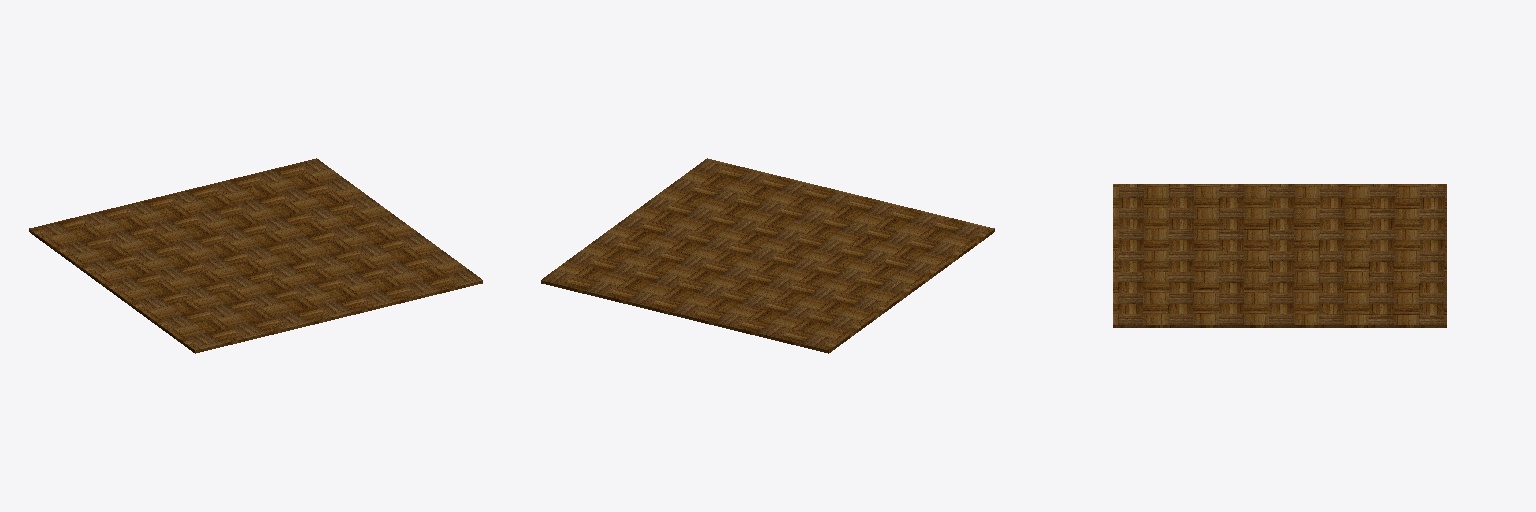
3 views of the same model, side by side, from view 1: azimuth 30°, elevation 25°; view 2: azimuth 150°, elevation 25°; view 3: azimuth 270°, elevation 25° (orthographic).
Parts seen in each view (by area): view 1: Plane; view 2: Plane; view 3: Plane.
Boxes of the visible parts, x1=… form: Plane: x1=29, y1=158, x2=482, y2=353; Plane: x1=541, y1=158, x2=994, y2=353; Plane: x1=1113, y1=184, x2=1446, y2=327.
Size of the model in its own units: 28.3 by 0.2836 by 28.3.
1 materials, 1 textured.